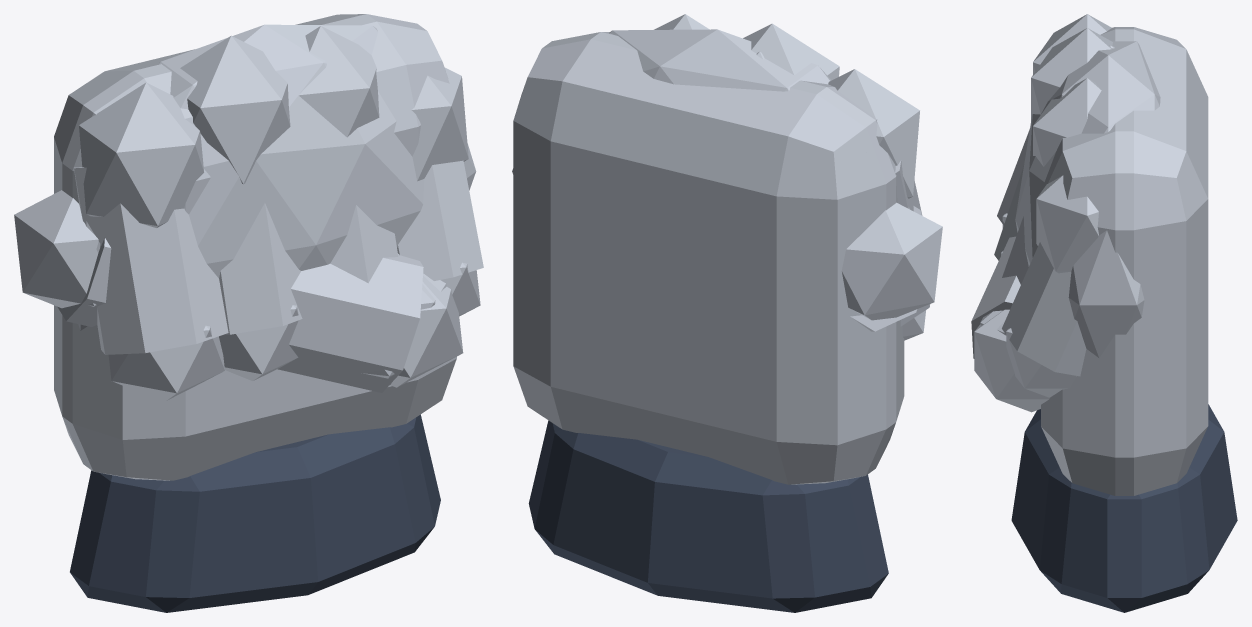
Rendered from FistHand_LowPoly.fbx.
3 renders of one model, left to right at view 1: azimuth 30°, elevation 25°; view 2: azimuth 150°, elevation 25°; view 3: azimuth 270°, elevation 25°, orthographic. The views are drawn at different scales.
Parts seen in each view (by area): view 1: FistHand_Glove, FistHand_Cuff; view 2: FistHand_Glove, FistHand_Cuff; view 3: FistHand_Glove, FistHand_Cuff.
Part boxes in pixels (<box>): FistHand_Glove: <box>14,14,483,480</box>; FistHand_Cuff: <box>70,414,440,612</box>; FistHand_Glove: <box>512,14,942,484</box>; FistHand_Cuff: <box>528,420,888,612</box>; FistHand_Glove: <box>971,14,1208,495</box>; FistHand_Cuff: <box>1011,404,1237,612</box>.
Bounding box in the file's own units: 0.1149 × 0.1402 × 0.0688.
